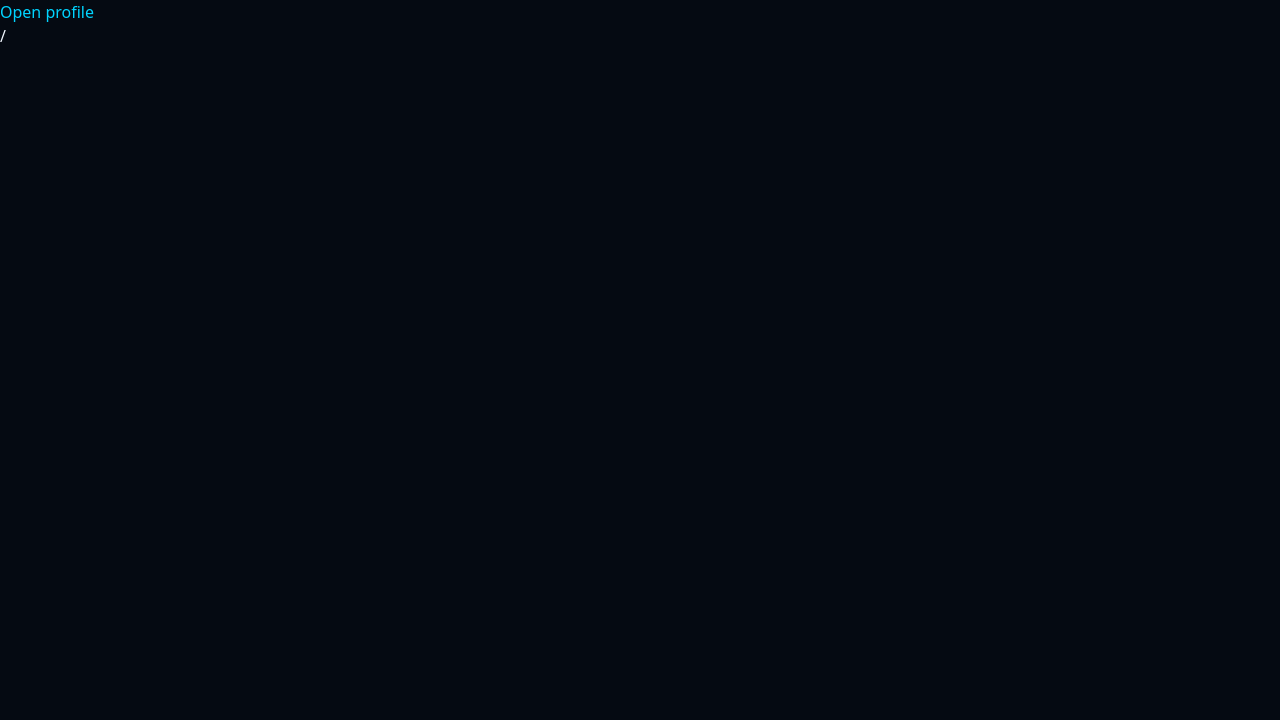
Test: opens the existing user profile and starts a direct conversation through Message
Click the button "Open profile": click(47, 12) x1=0 y1=0 x2=94 y2=24
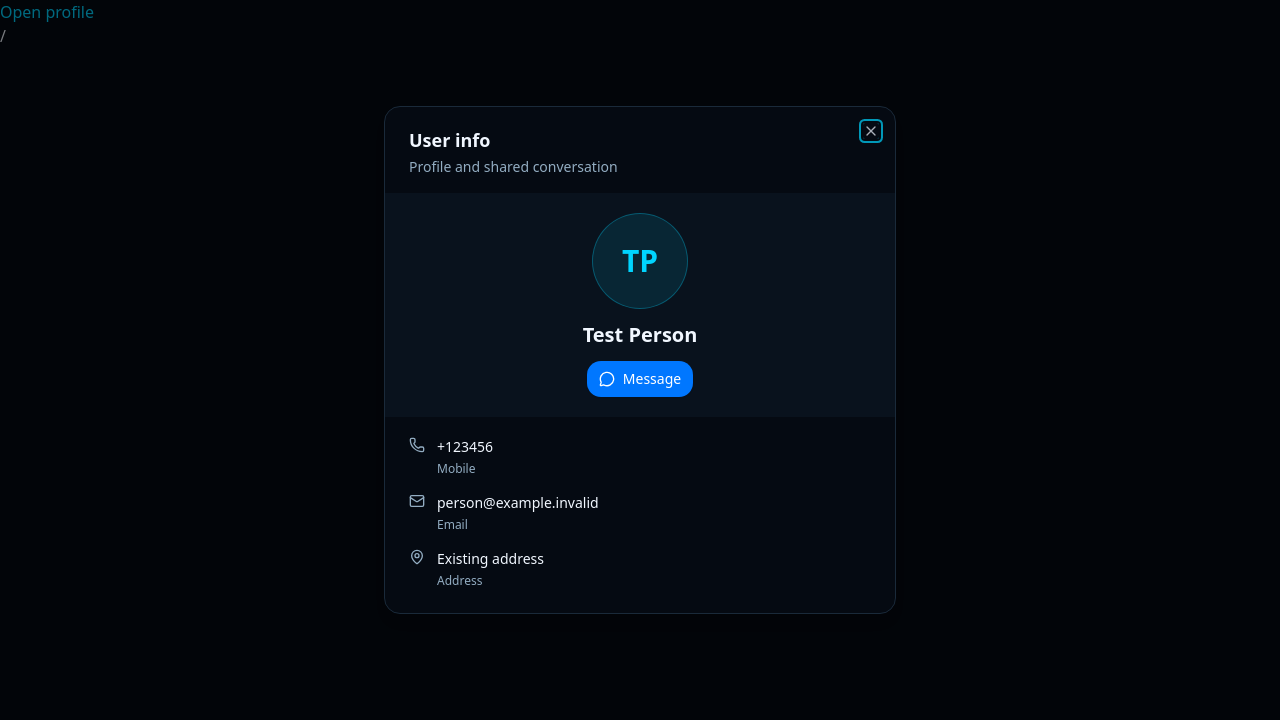
Check: the heading "Test Person" is shown, box x1=583 y1=321 x2=697 y2=349
Check: the text "Existing address" is shown, box x1=437 y1=549 x2=544 y2=569
Click the button "Message": click(640, 379) x1=587 y1=361 x2=693 y2=397
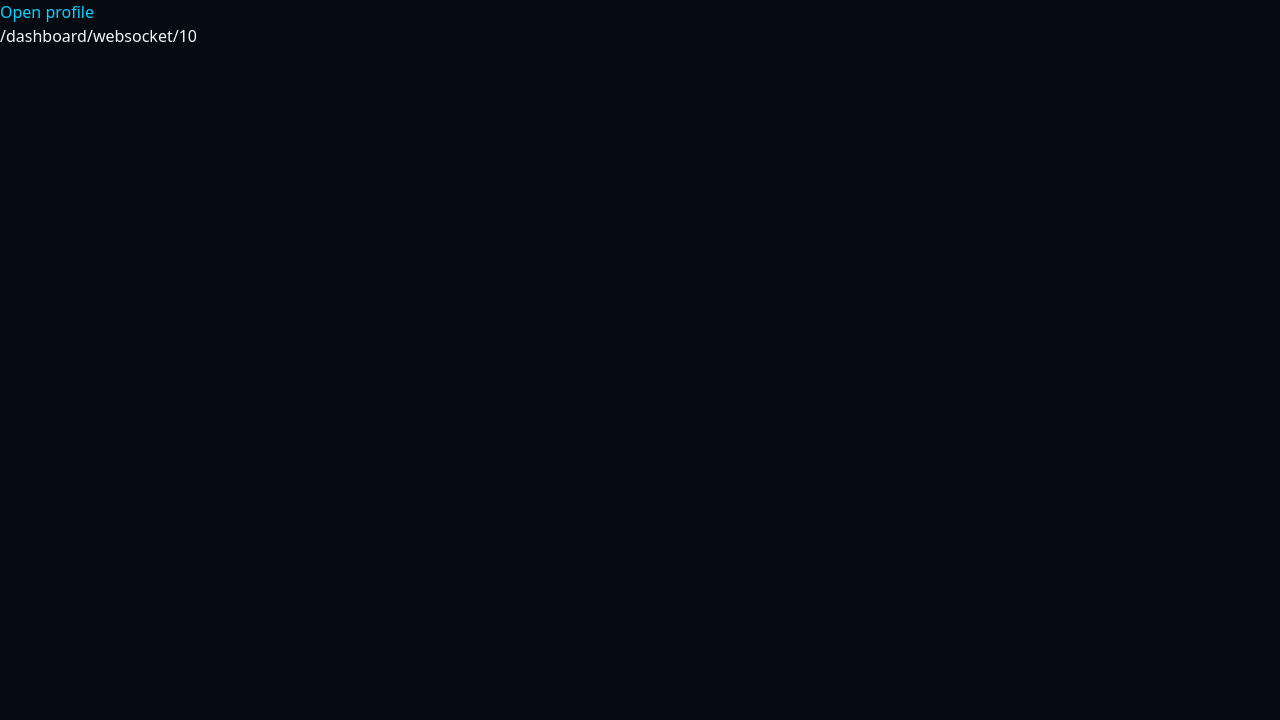
Check: the text "/dashboard/websocket/10" is shown, box x1=0 y1=25 x2=197 y2=47
